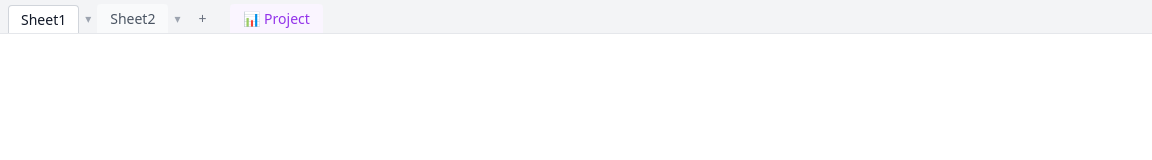
Test: SheetTabs › actions menu › enters rename mode when Rename menu item is clicked
Click the 1st button titled "Sheet actions (Rename, Copy, Delete)" at (88, 19), box [79,7,97,31]
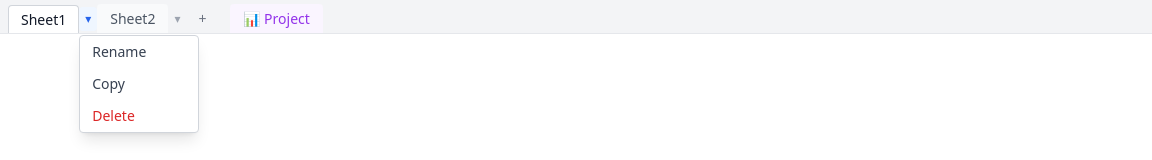
Press the mouse on the button "Rename" at (139, 52), box [80,36,198,68]
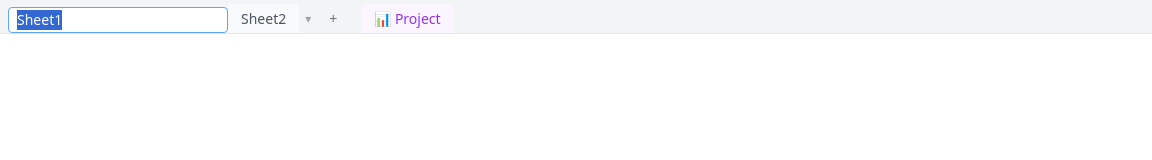
Expected: the field showing "Sheet1" is shown, [8,7,228,33]
